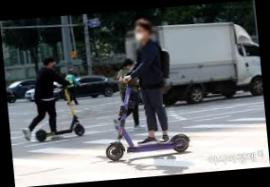nonhelmet: (93, 14, 193, 162), (15, 54, 86, 146)
